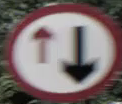Two way: (18, 12, 102, 87)
